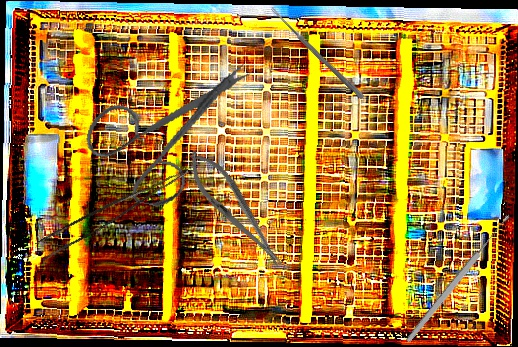Iris Scissors: (75, 33, 253, 221)
Needle Holder: (177, 141, 293, 277)
Surgical Spoon: (403, 212, 514, 345), (268, 6, 366, 100)
Tissue Forceps: (32, 151, 190, 266)
